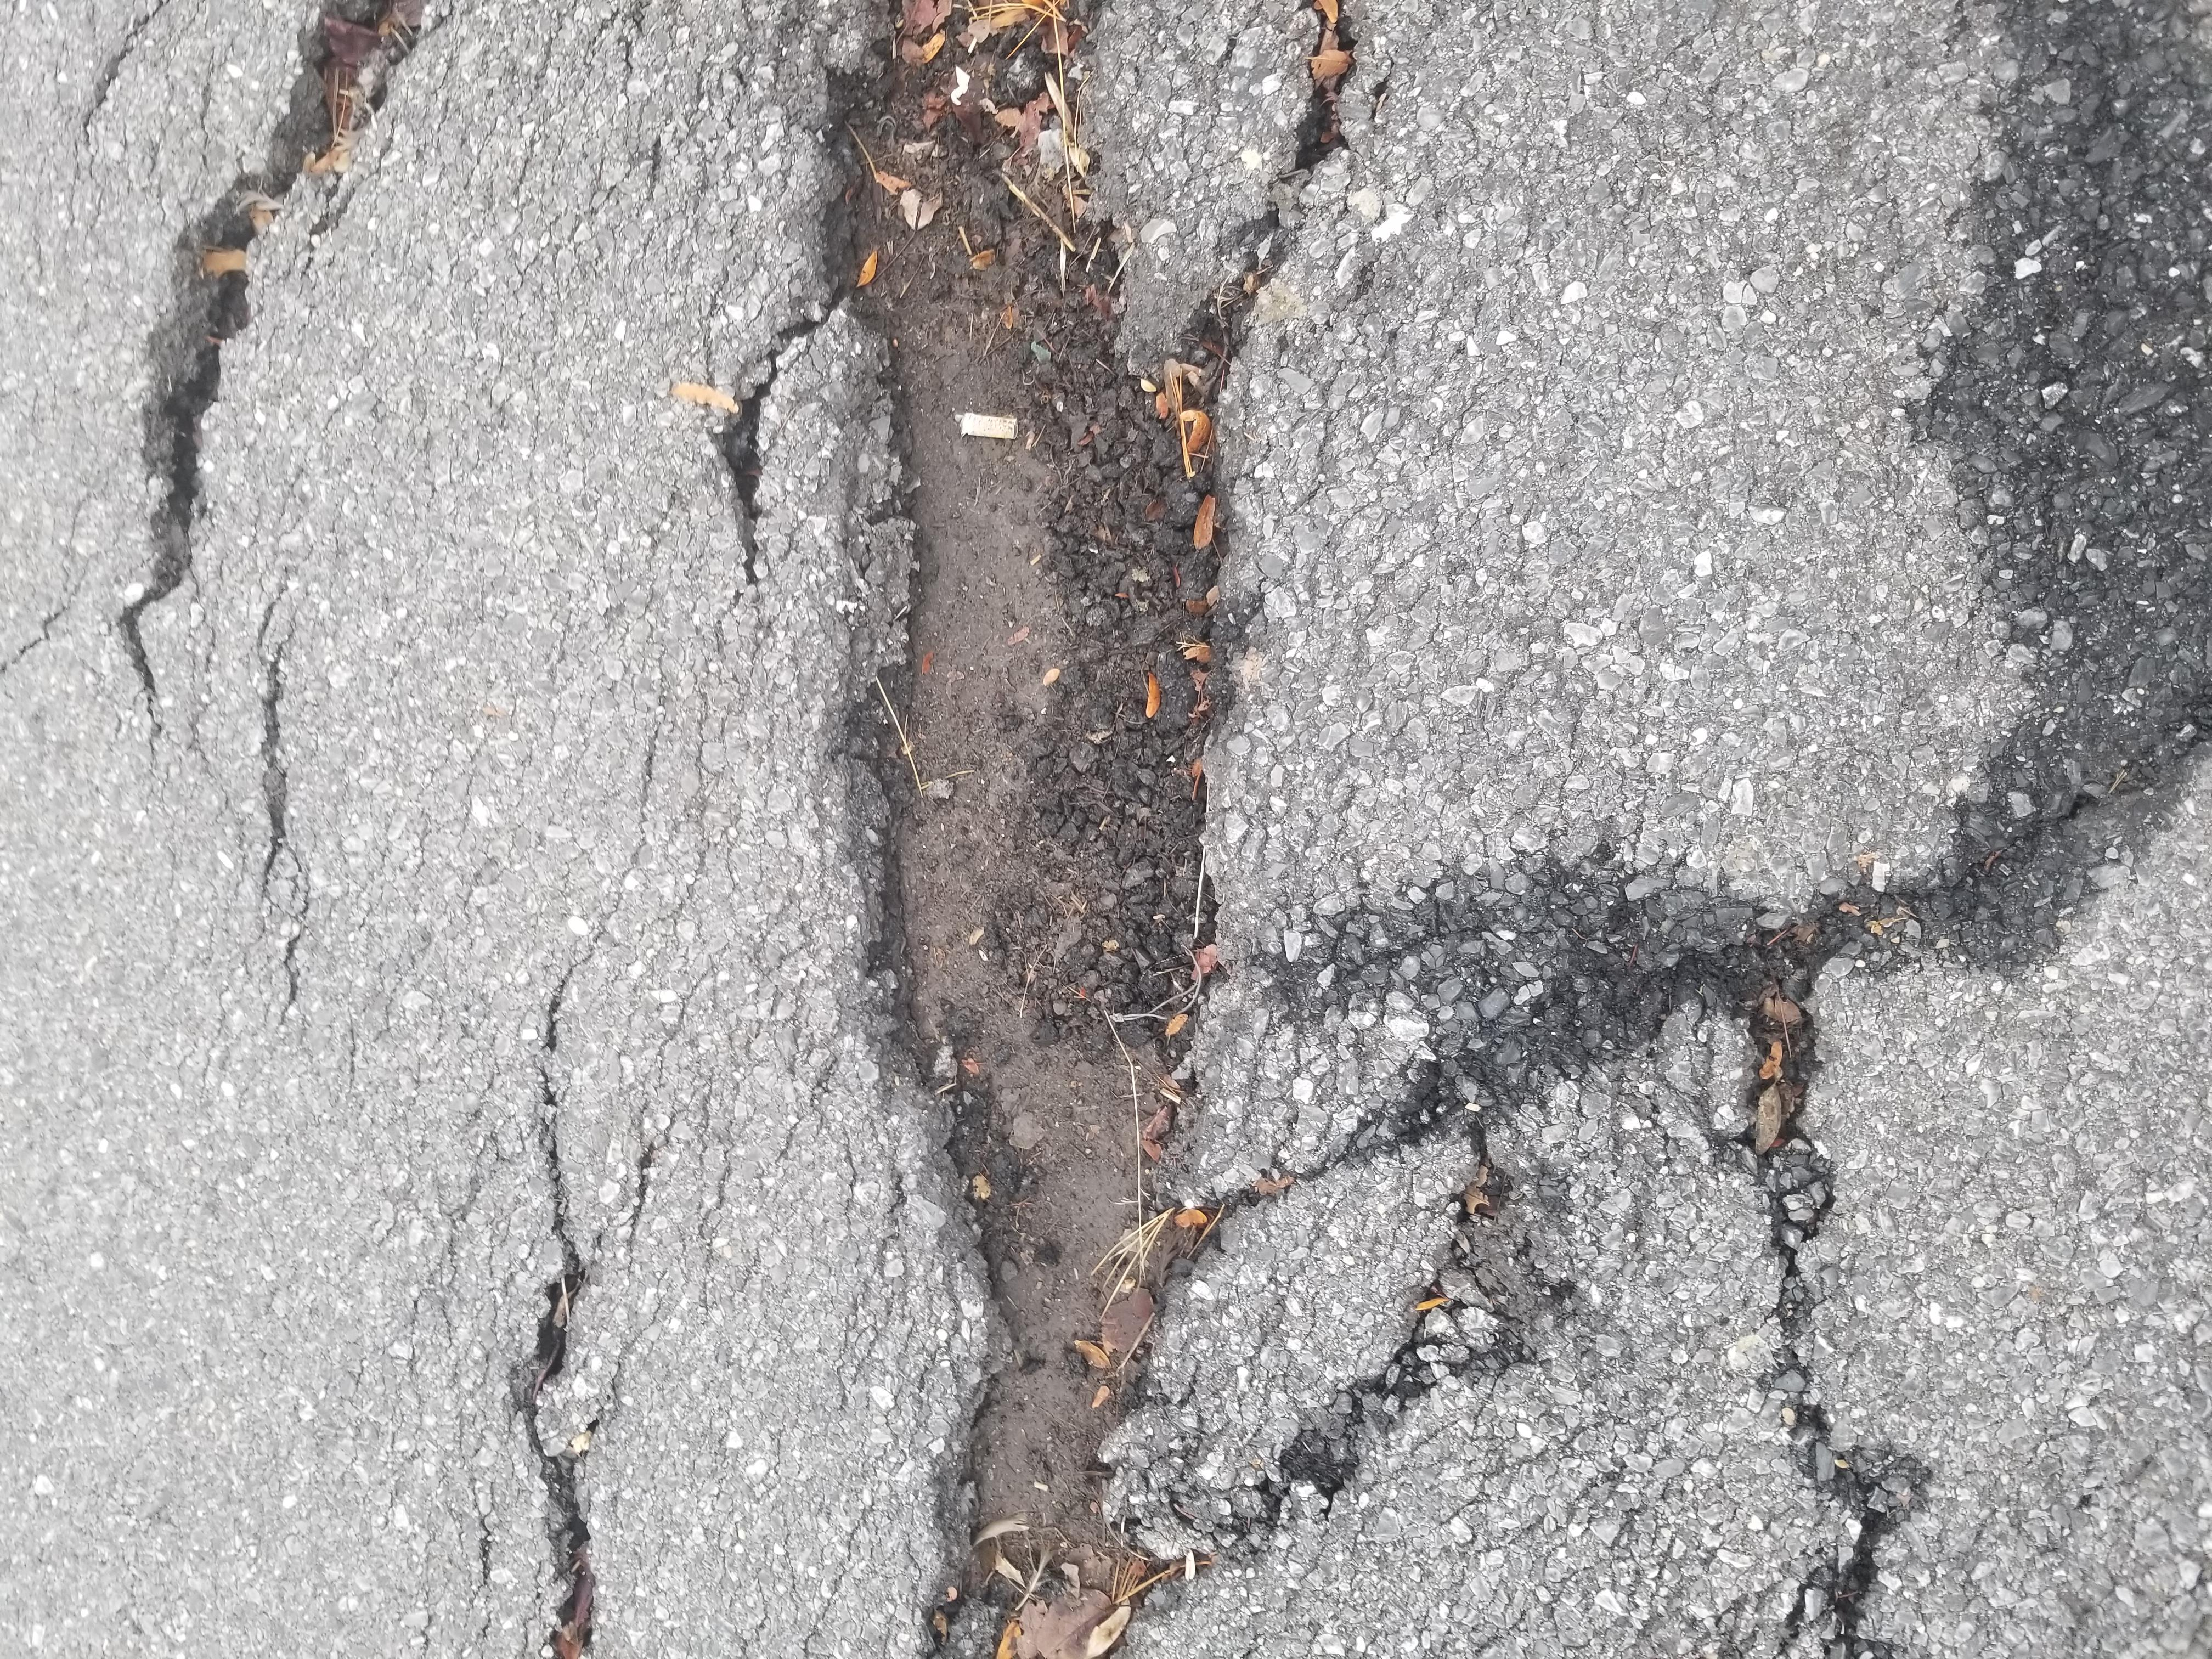crack: (0, 941, 1033, 1406), (0, 361, 911, 460)
pothole: (28, 601, 2212, 932)
